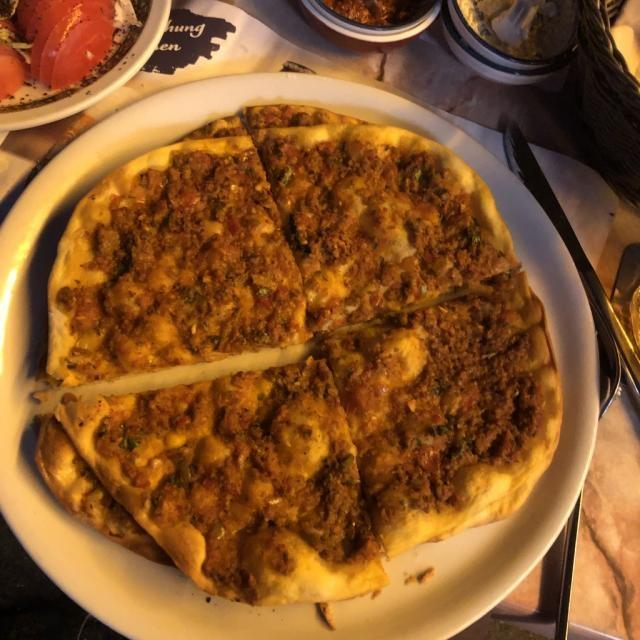beef: (74, 144, 567, 564)
